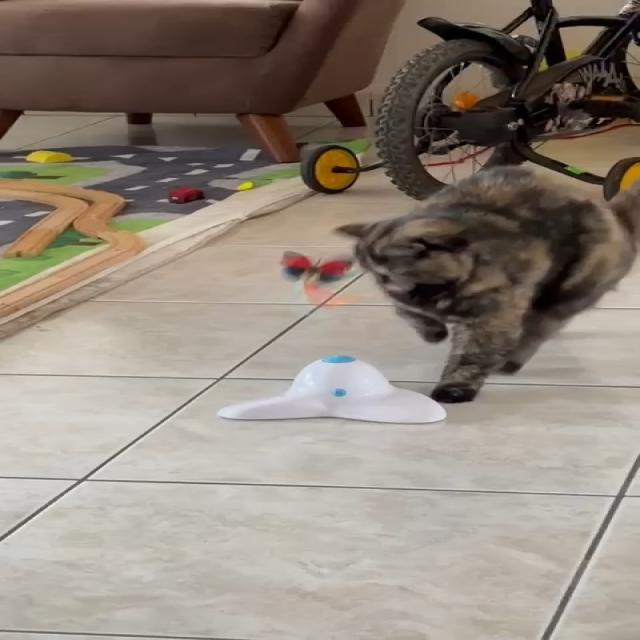authorized: (332, 163, 639, 403)
